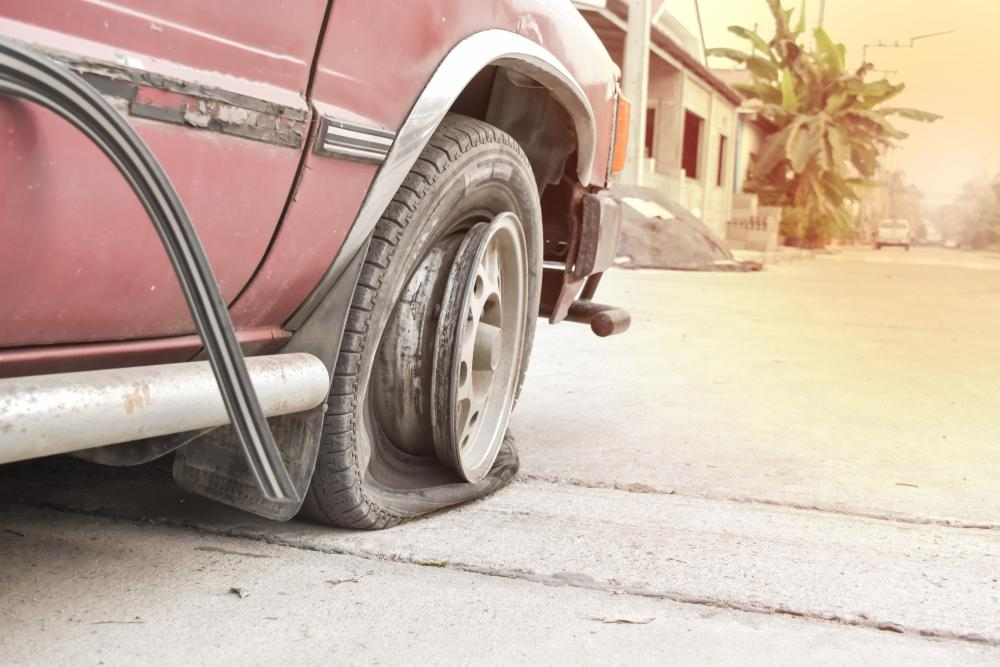tire flat: (302, 111, 545, 530)
